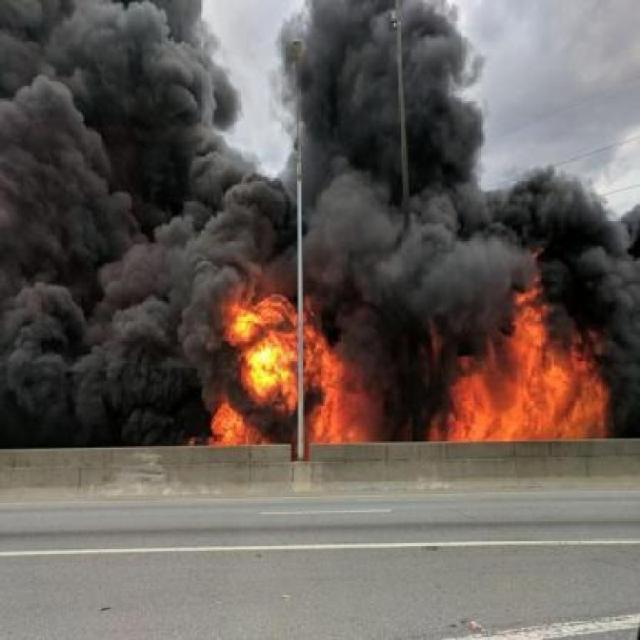Fire: (212, 254, 620, 516)
Smoke: (0, 0, 325, 271), (310, 22, 634, 282), (0, 282, 178, 468)
